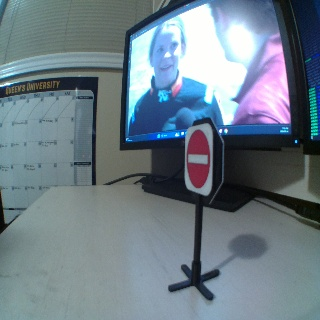sign_noentry: (182, 128, 214, 194)
